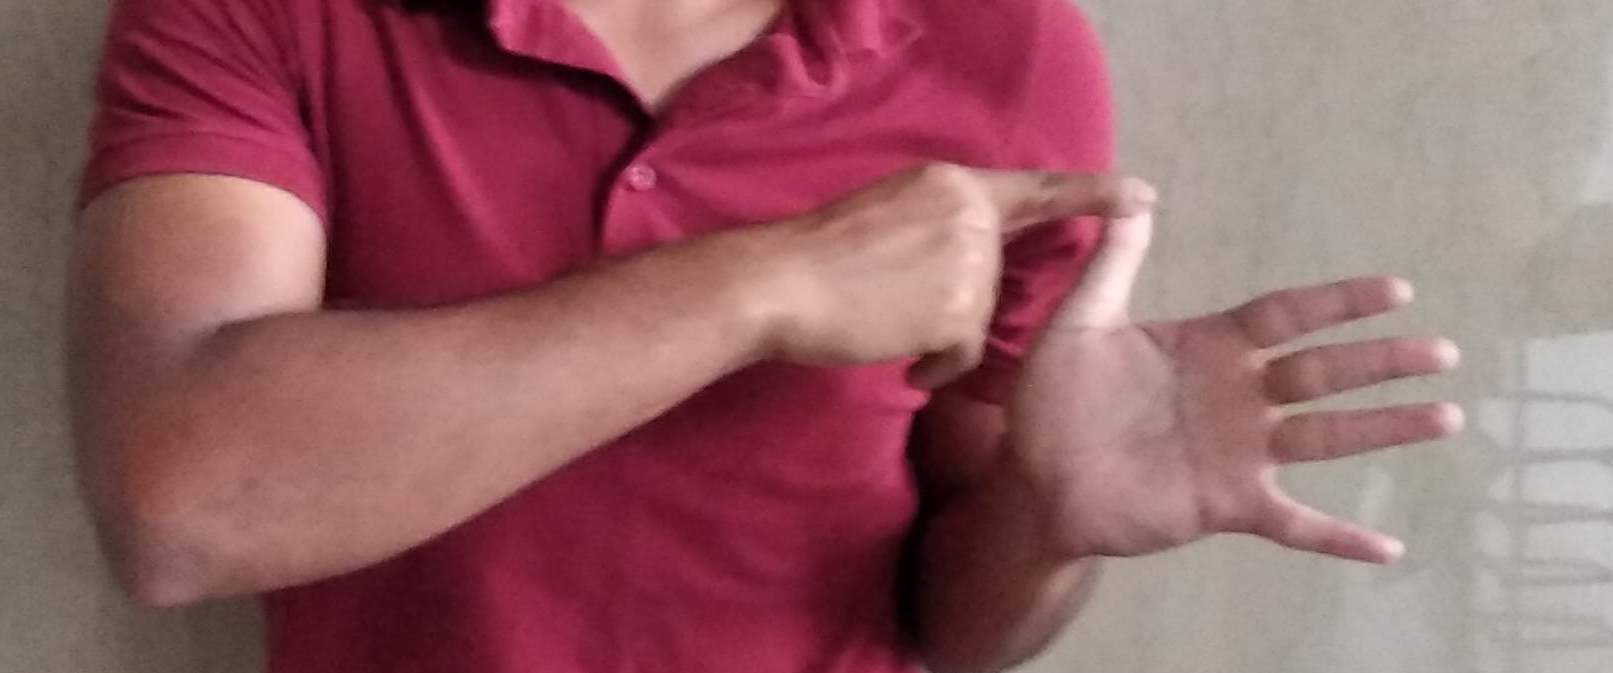a: (879, 152, 1460, 623)
